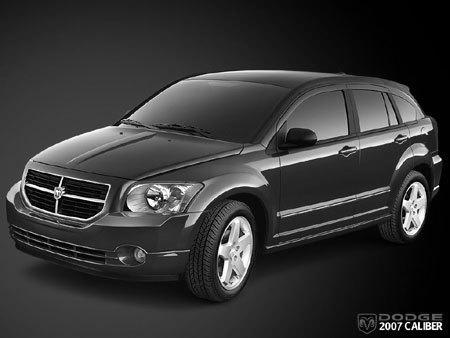car: (6, 59, 447, 310)
